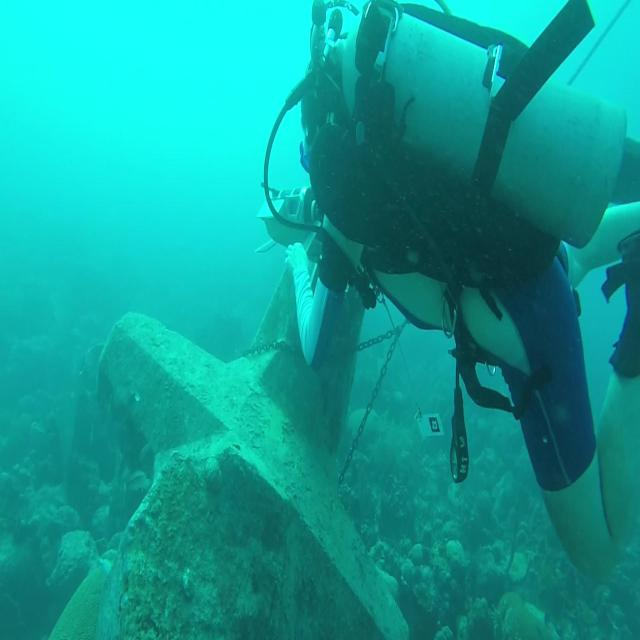human: (277, 1, 638, 582)
